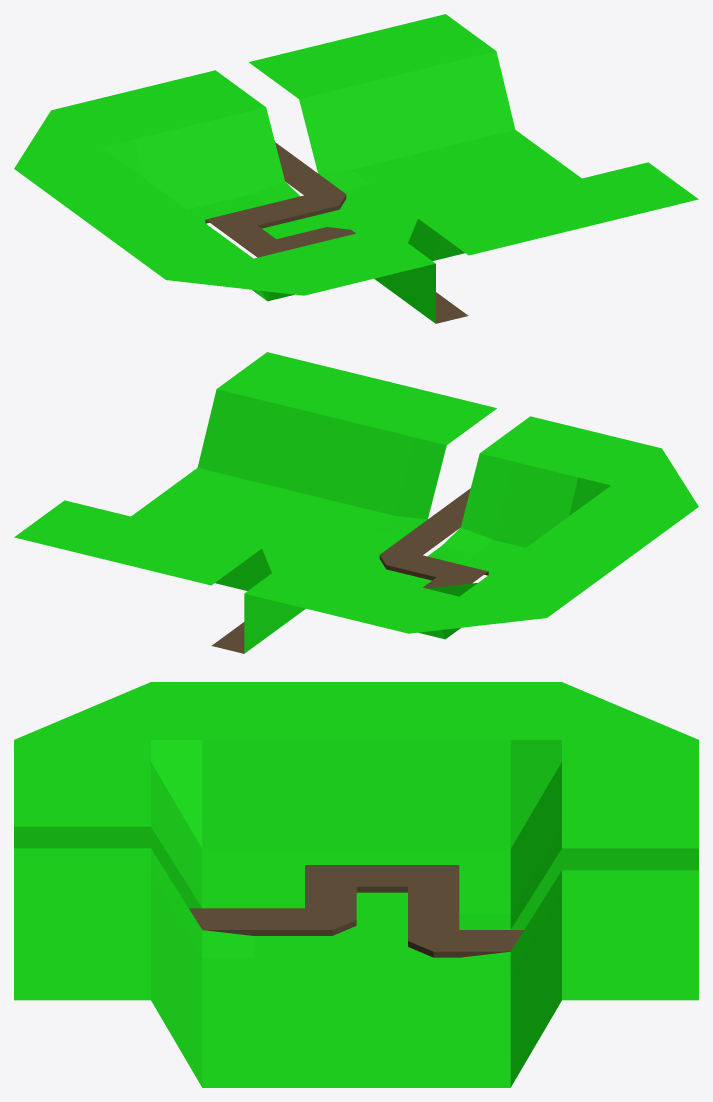
File: grass_plains.glb
3 renders of one model, top to bottom at view 1: azimuth 30°, elevation 25°; view 2: azimuth 150°, elevation 25°; view 3: azimuth 270°, elevation 25°, orthographic. The views are drawn at different scales.
Parts seen in each view (by area): view 1: Plane; view 2: Plane; view 3: Plane.
Part boxes in pixels (x1,y1,x2,y2): Plane: (14, 14, 698, 323); Plane: (14, 352, 698, 653); Plane: (14, 682, 698, 1087).
Bounding box in the file's own units: 33 × 4.23 × 30.
